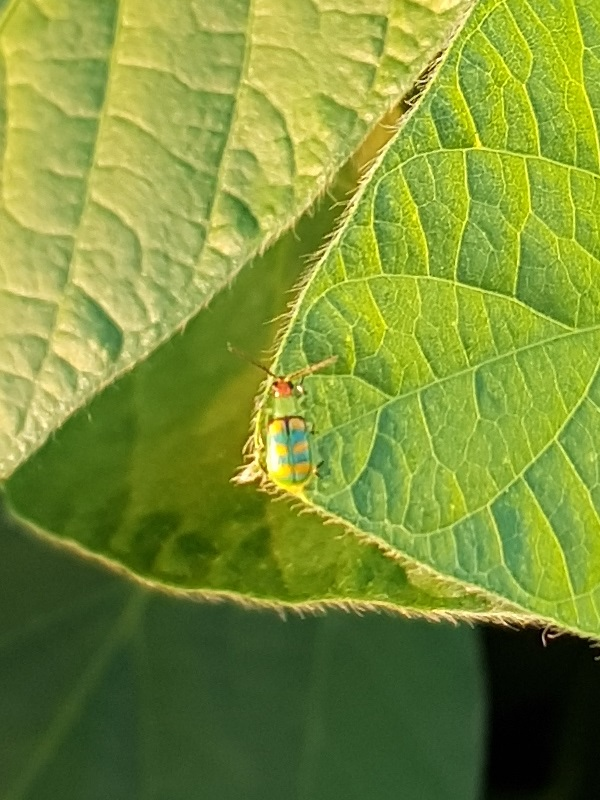Diabrotica_speciosa: (213, 337, 353, 506)
